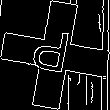P_S: (32, 27, 78, 83)
